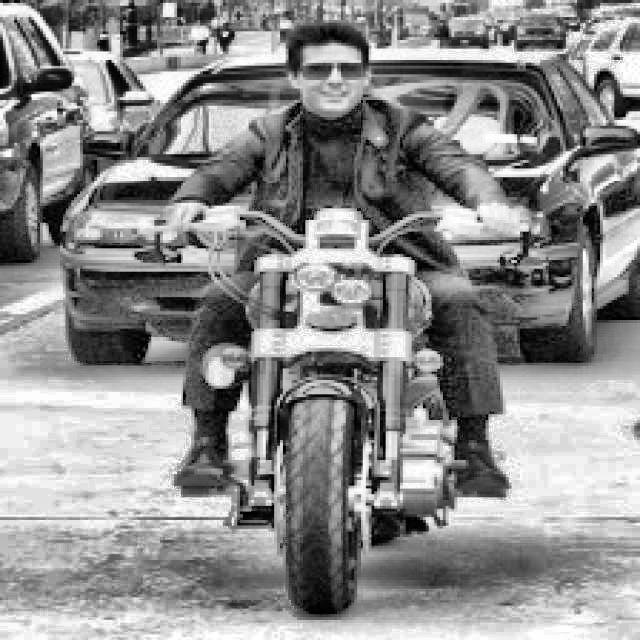motorcycle: (133, 190, 552, 621)
